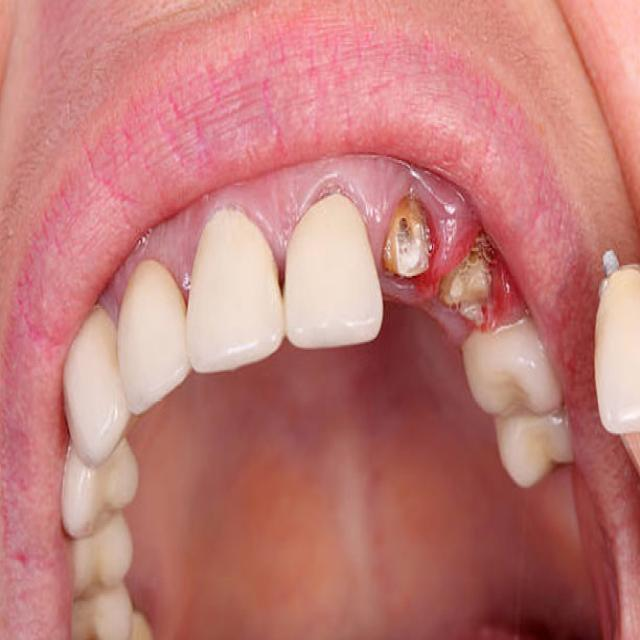caries: (440, 250, 490, 334), (382, 198, 428, 282)
